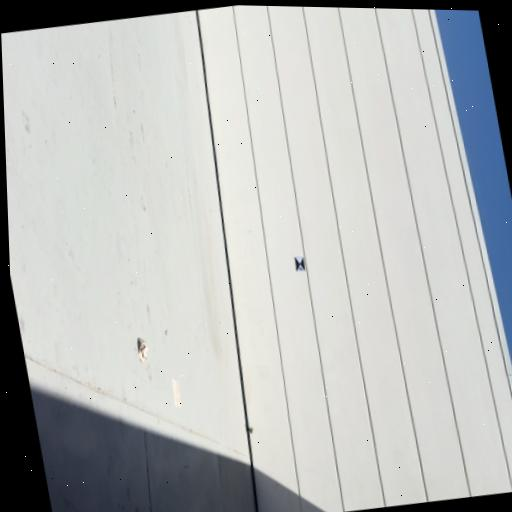target7: (295, 256, 306, 272)
